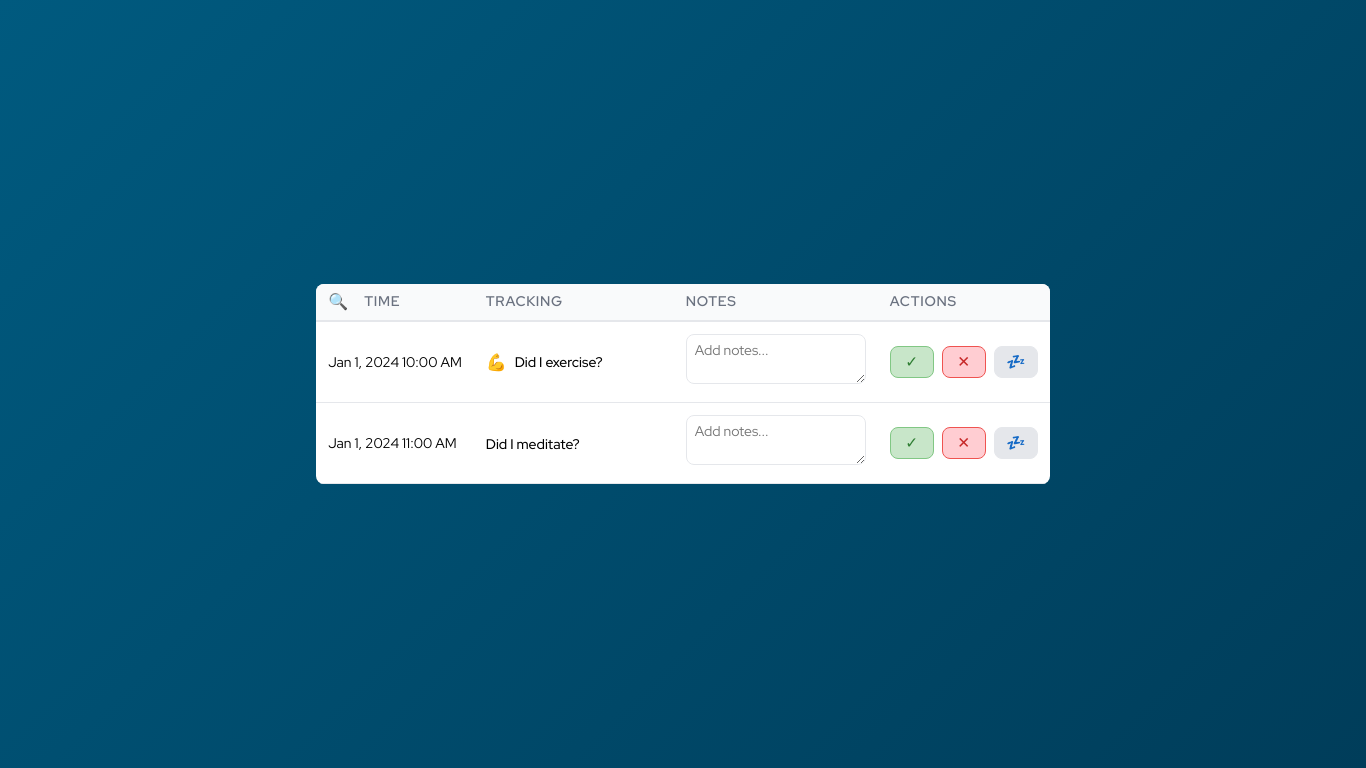
Scenario: RemindersList › should filter reminders by tracking
# Open filters
Click the button named "show filters" at {"x": 338, "y": 302}, box x1=328 y1=290 x2=348 y2=314
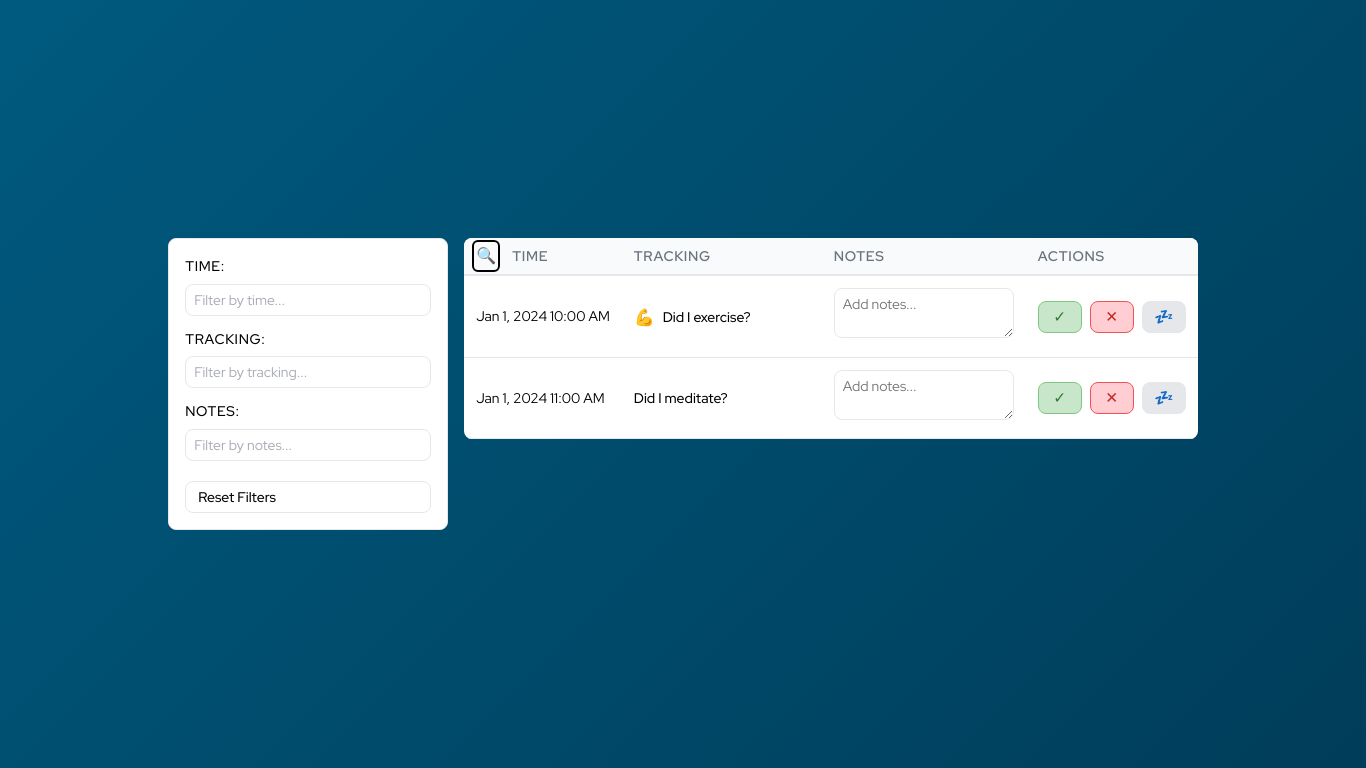
# Filter by tracking
Type "exercise" into the field named "Filter by tracking" at {"x": 308, "y": 372}, box x1=185 y1=356 x2=431 y2=388
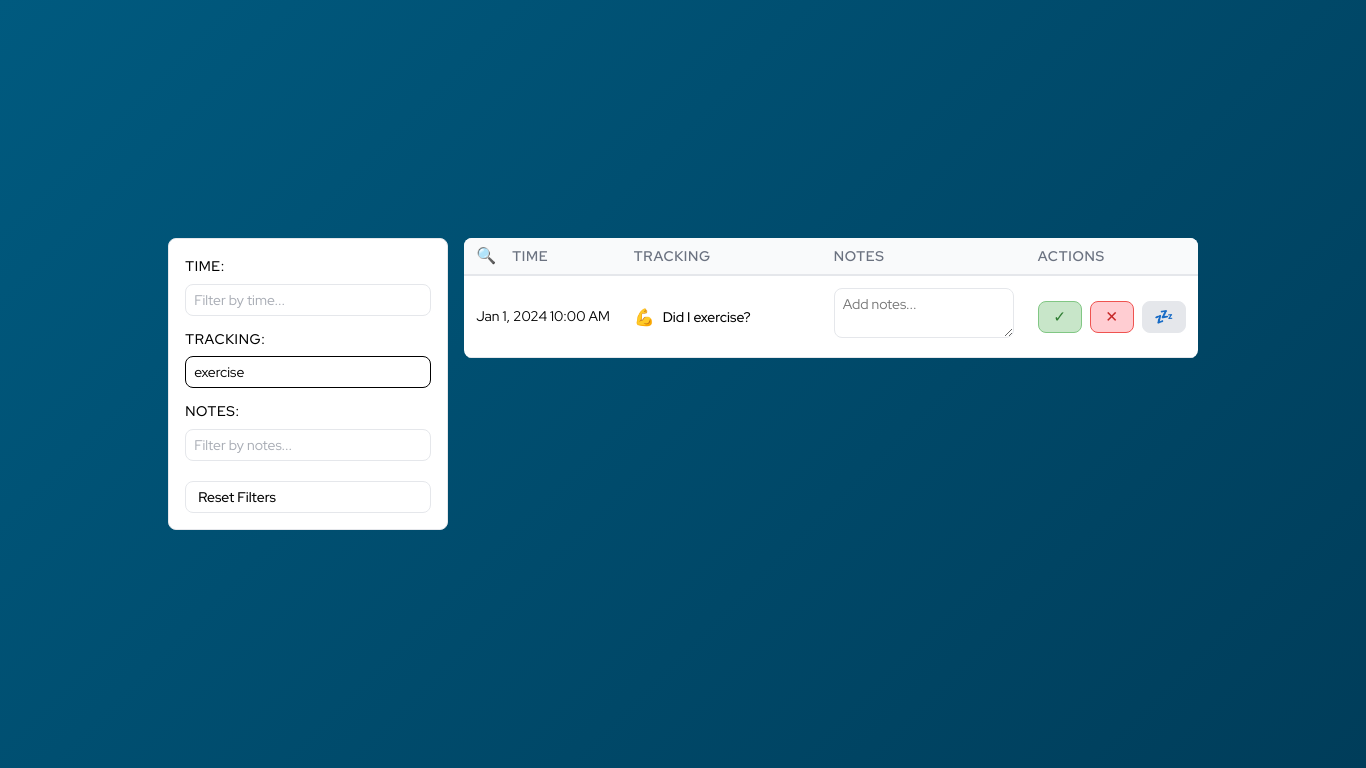
Expected: the text "Did I exercise?" is shown, x1=663 y1=308 x2=751 y2=326
Expected: the text "Did I meditate?" is gone
